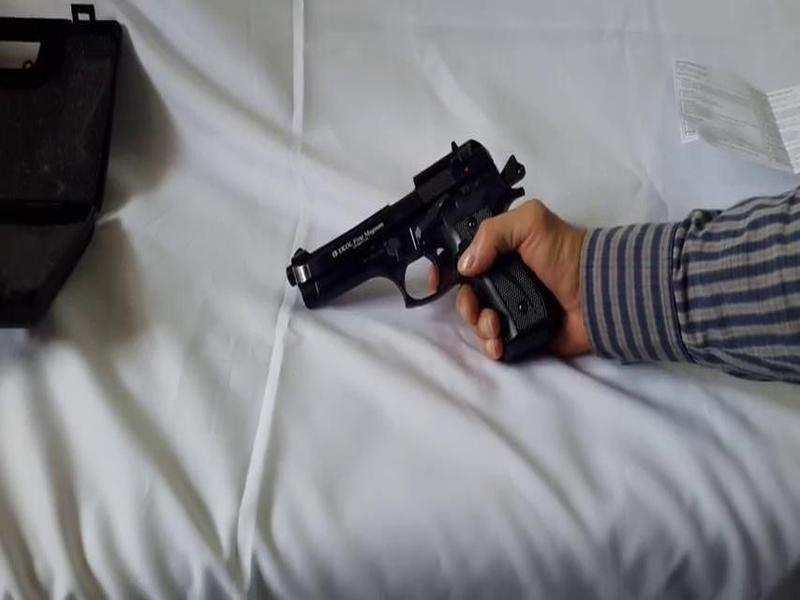Pistola: (272, 125, 579, 394)
